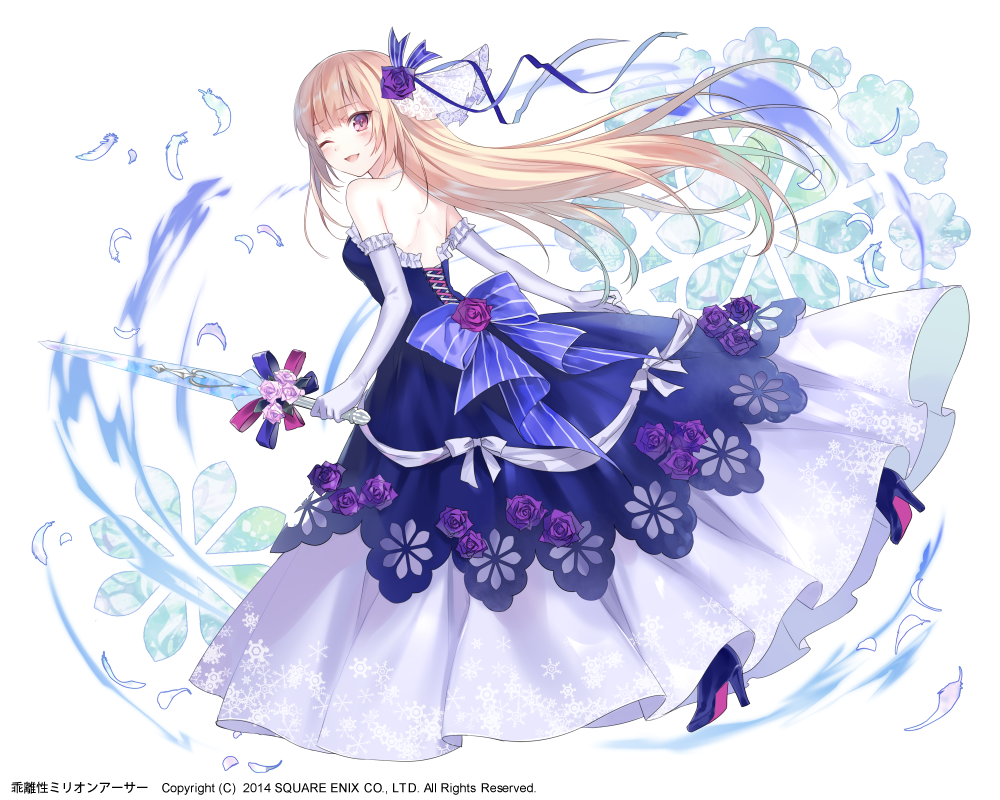纸片人正脸: (291, 47, 419, 184)
